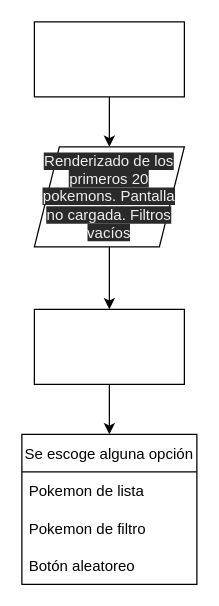
Image size: 219x606. Some labels were removed from this diagram. The centre of each missing label's shape, as x and y in pixels:
"Se escoge un pokemon o algún botón" belongs at point 108,346.
"Usuario entra en la app" belongs at point 108,59.
